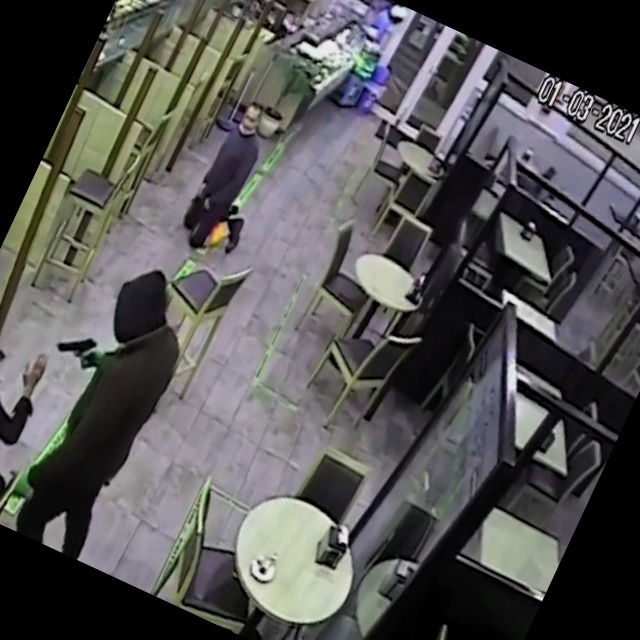gun: (44, 310, 111, 379)
